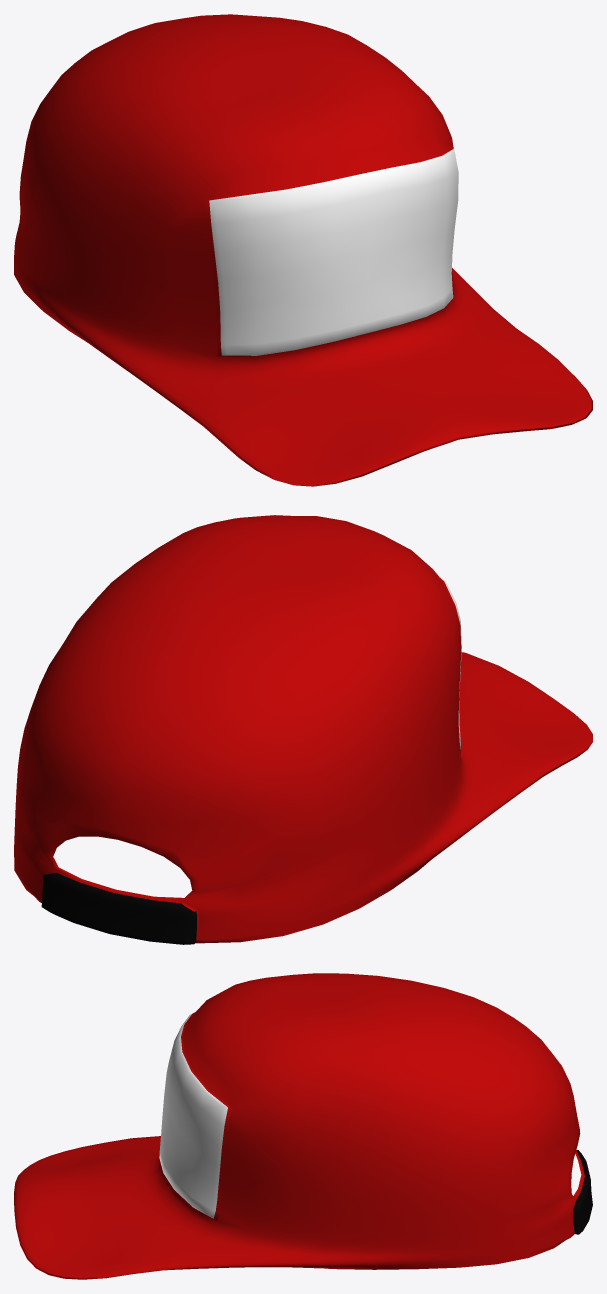
The model's file is outfit_trucker_red.glb.
3 views of the same model, one above another, from view 1: azimuth 30°, elevation 25°; view 2: azimuth 150°, elevation 25°; view 3: azimuth 270°, elevation 25° (orthographic). The views are drawn at different scales.
Visible parts, largest first — view 1: outfit_trucker_red; view 2: outfit_trucker_red; view 3: outfit_trucker_red.
Part boxes in pixels (x1,y1,x2,y2): outfit_trucker_red: [14, 14, 592, 486]; outfit_trucker_red: [14, 515, 592, 944]; outfit_trucker_red: [14, 973, 592, 1279].
Bounding box in the file's own units: 0.4152 × 0.3 × 0.7216.
